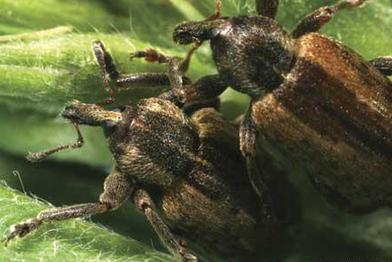weevils: (3, 33, 315, 262), (167, 0, 392, 262)
